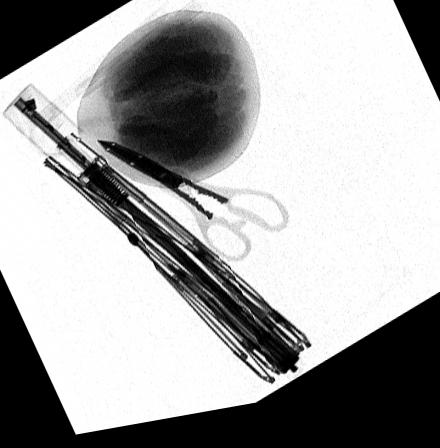Scissors: (93, 134, 295, 274)
